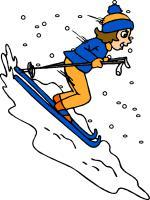person: (46, 3, 133, 125)
